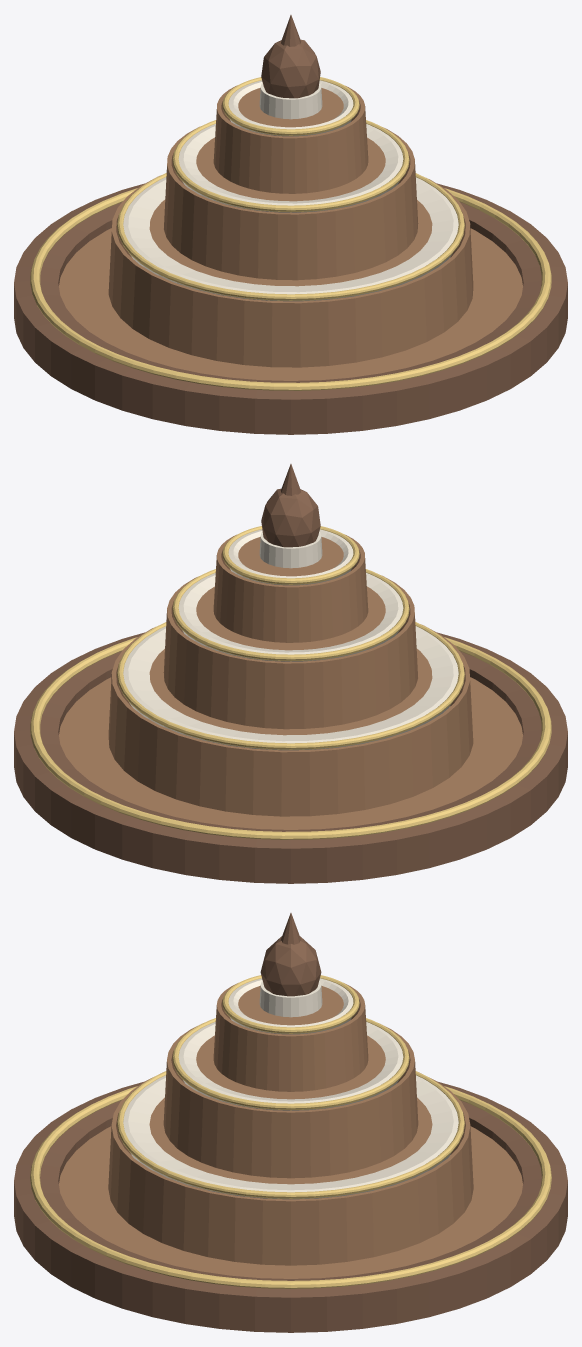
File: HOB_ChocoFountain.fbx
3 renders of one model, top to bottom at view 1: azimuth 30°, elevation 25°; view 2: azimuth 150°, elevation 25°; view 3: azimuth 270°, elevation 25°, orthographic.
Visible parts, largest first — view 1: HOB_ChocoFountain; view 2: HOB_ChocoFountain; view 3: HOB_ChocoFountain.
Boxes of the visible parts, bbox=[...] form: HOB_ChocoFountain: bbox=[14, 15, 567, 434]; HOB_ChocoFountain: bbox=[14, 464, 567, 883]; HOB_ChocoFountain: bbox=[14, 913, 567, 1332].
Size of the model in its own units: 1000 by 606 by 1000.
